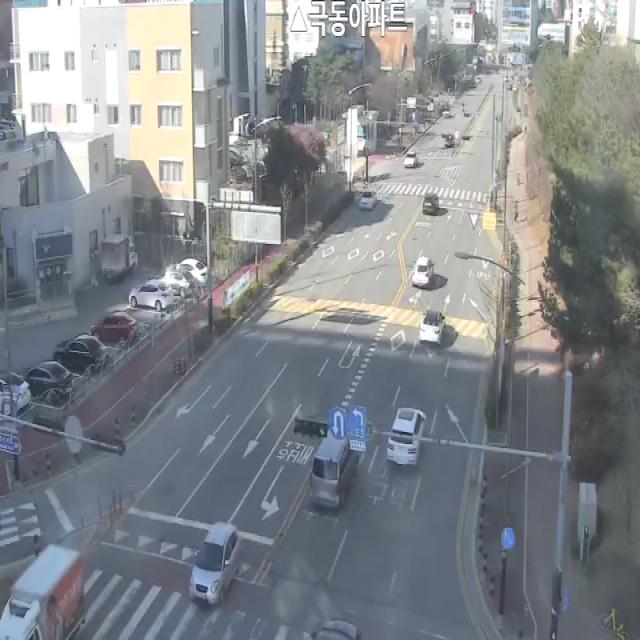Car: (0, 542, 82, 640), (189, 521, 242, 607), (309, 429, 359, 510), (387, 407, 427, 467), (21, 361, 74, 406), (53, 334, 108, 375), (102, 232, 138, 281), (90, 312, 137, 347), (0, 371, 32, 417), (155, 271, 200, 299), (129, 282, 174, 309), (164, 257, 208, 282), (420, 308, 446, 347), (412, 256, 434, 288), (360, 189, 378, 212), (424, 192, 439, 215), (404, 152, 418, 168), (445, 138, 456, 148), (443, 109, 452, 118)
